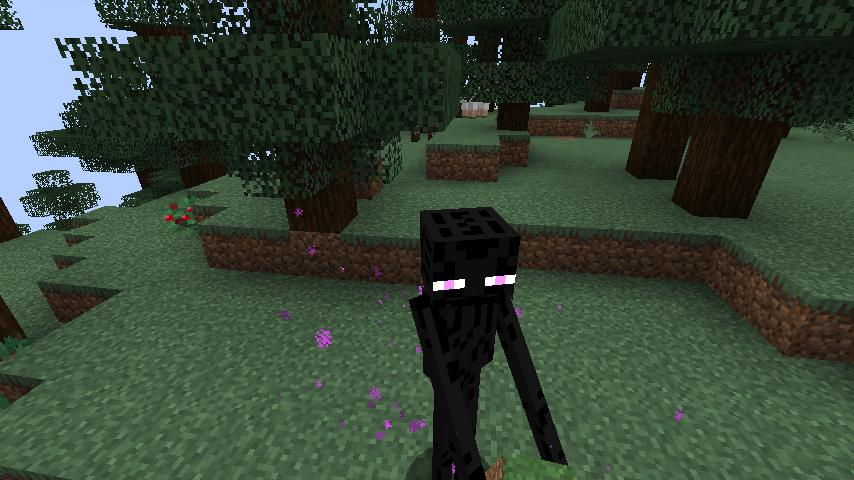cow: (410, 119, 437, 143)
enderman: (407, 202, 575, 480)
sheep: (459, 97, 491, 119)
